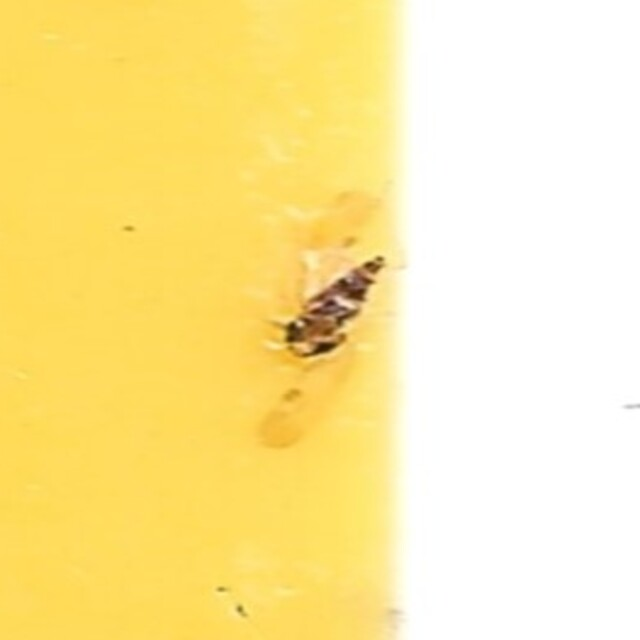Hemiptera: (243, 185, 397, 455)
